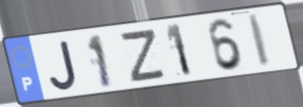1: (85, 33, 117, 89), (165, 21, 194, 80)
6: (208, 17, 244, 74)
I: (246, 12, 273, 69)
J: (48, 39, 80, 92)
Z: (120, 27, 168, 85)
